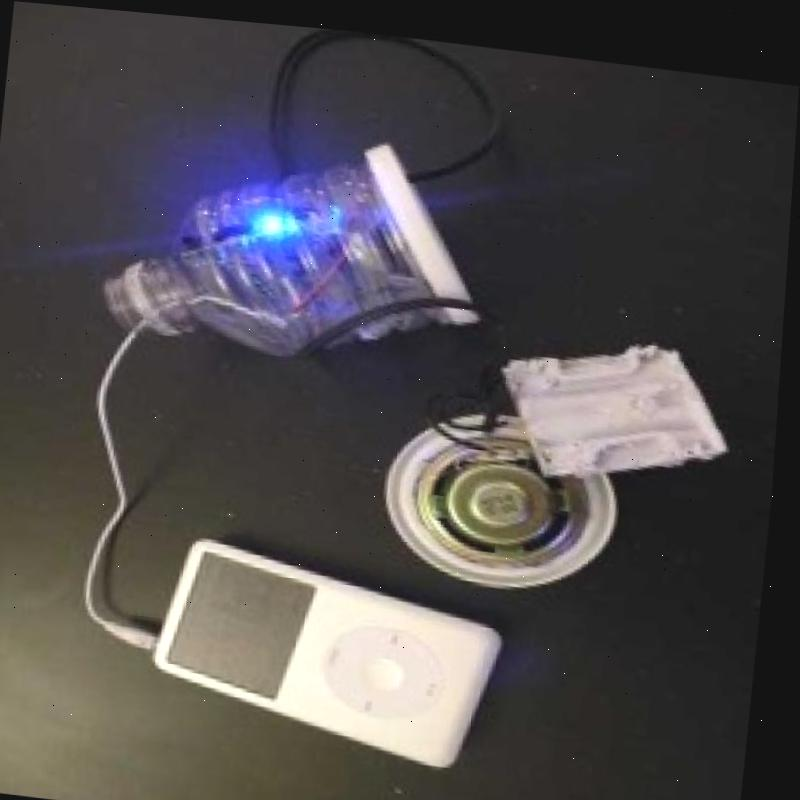botella: (102, 124, 474, 367)
